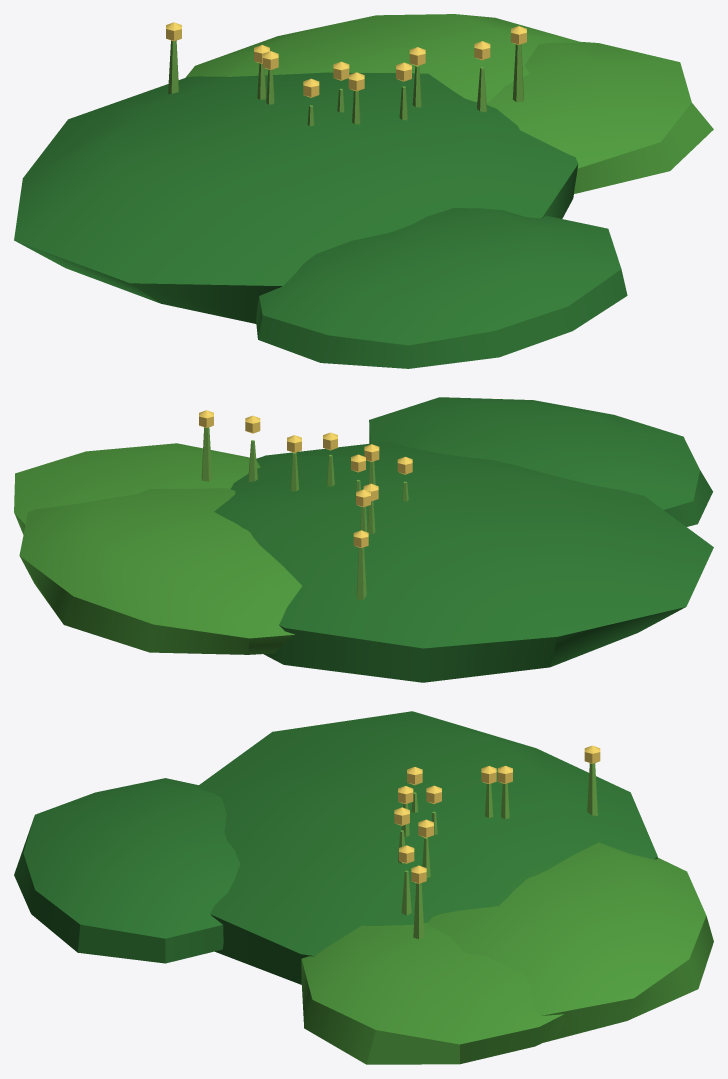
Rendered from moos_2.obj.
3 renders of one model, top to bottom at view 1: azimuth 30°, elevation 25°; view 2: azimuth 150°, elevation 25°; view 3: azimuth 270°, elevation 25°, orthographic. The views are drawn at different scales.
Parts seen in each view (by area): view 1: moos_2_Koerper; view 2: moos_2_Koerper; view 3: moos_2_Koerper.
Boxes of the visible parts, x1=… form: moos_2_Koerper: x1=14, y1=14, x2=713, y2=368; moos_2_Koerper: x1=14, y1=397, x2=713, y2=682; moos_2_Koerper: x1=14, y1=711, x2=713, y2=1064.
Size of the model in its own units: 1.87 by 0.4389 by 1.7.
